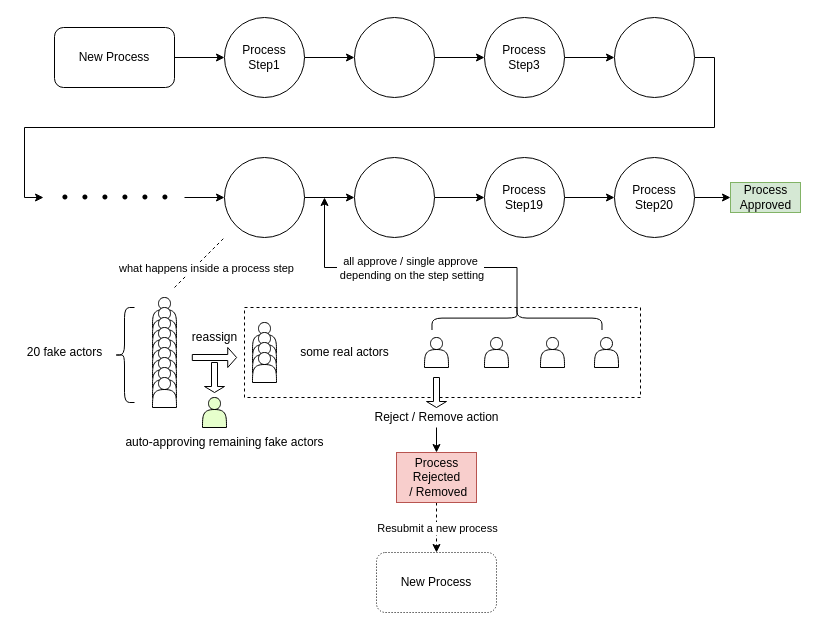
This 818x630 diagram has some shape labels left out. The box of each missing label's shape, as (x1, y1, x2, y2) in pixels:
Process Step17: (224, 156, 304, 238)
Process Step18: (354, 156, 434, 238)
Process Step2: (354, 16, 434, 98)
Process Step4: (614, 16, 694, 98)
